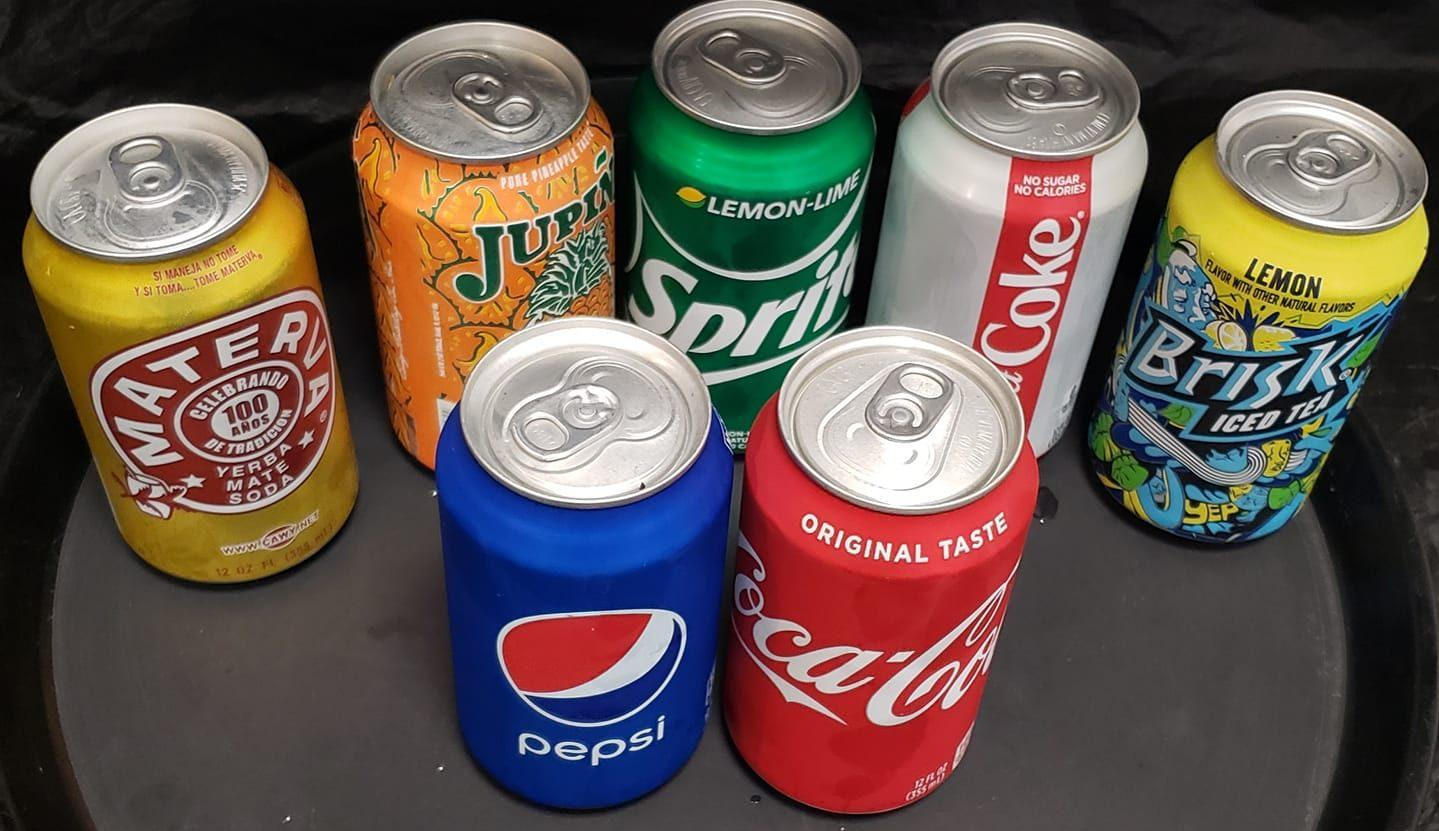lata: (660, 294, 1070, 831), (0, 77, 378, 613), (436, 317, 731, 808), (342, 11, 639, 473), (628, 0, 874, 452)
